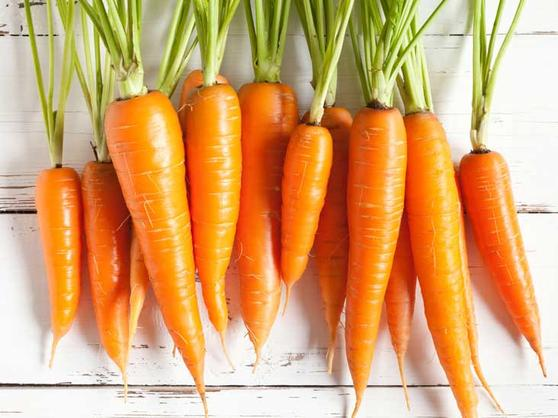carrot: (98, 75, 219, 410)
